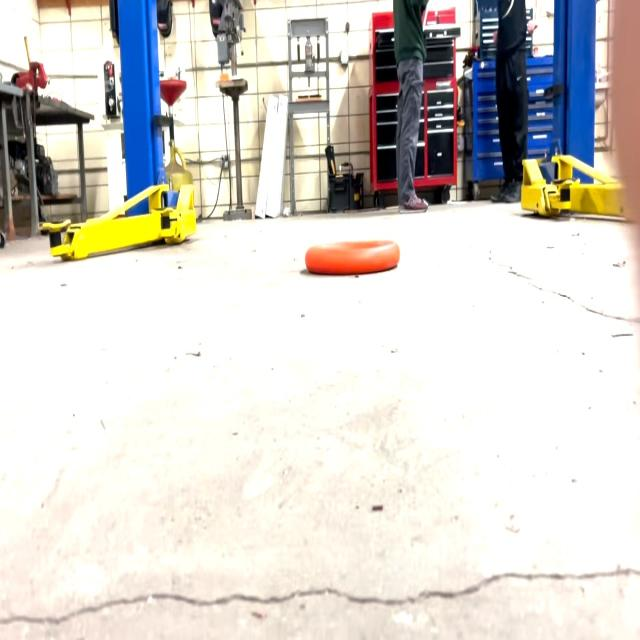note: (304, 235, 402, 279)
